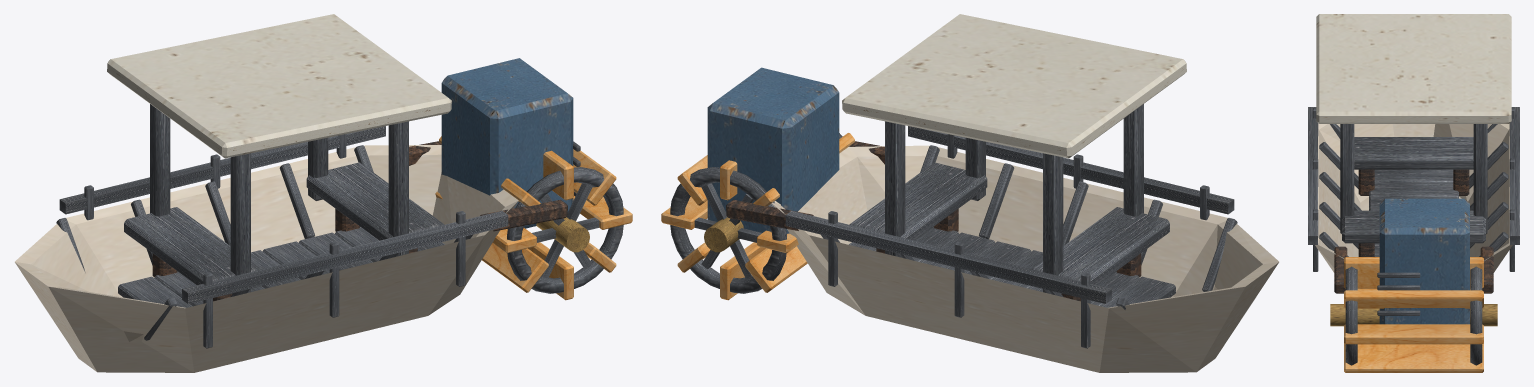
Rendered from revised-06-02.glb.
3 renders of one model, left to right at view 1: azimuth 30°, elevation 25°; view 2: azimuth 150°, elevation 25°; view 3: azimuth 270°, elevation 25°, orthographic. The views are drawn at different scales.
Visible parts, largest first — view 1: folded_ferry; view 2: folded_ferry; view 3: folded_ferry.
Boxes of the visible parts, box(x1,y1,x2,y2) form: folded_ferry: box(15, 14, 632, 372); folded_ferry: box(661, 14, 1278, 372); folded_ferry: box(1308, 14, 1519, 372).
Bounding box in the file's own units: 2.48 × 1.08 × 0.986.
Materials: 2 (2 with a texture image).
